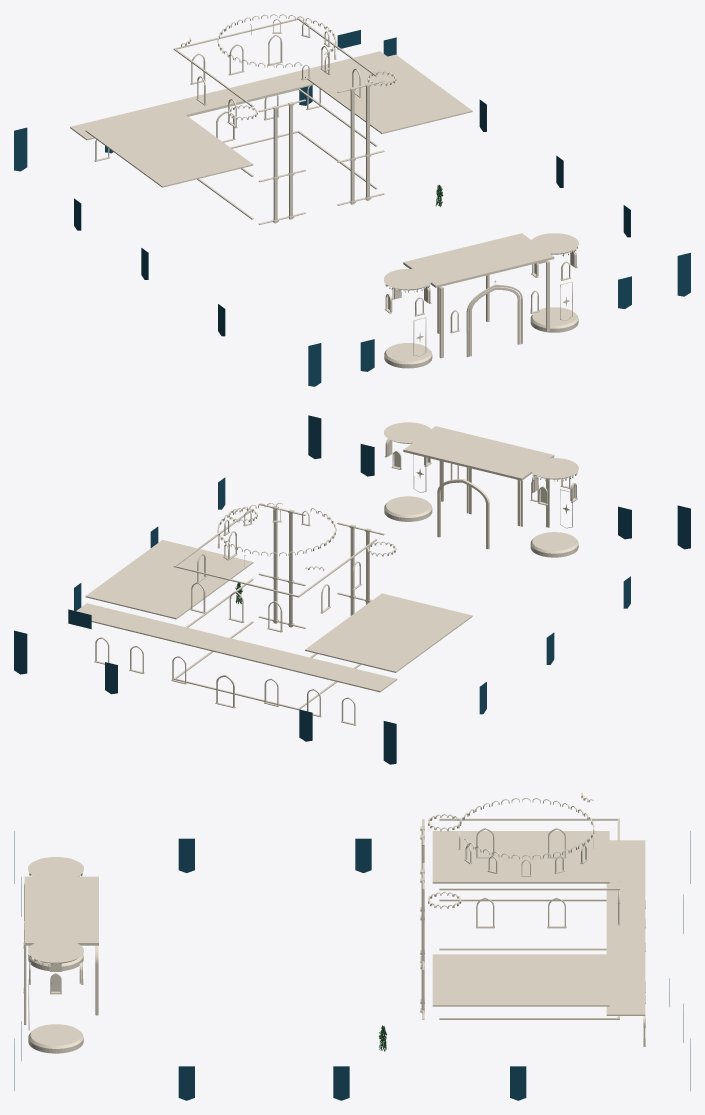
The model's file is castle-05.glb.
The picture shows the model from 3 angles, top to bottom: view 1: azimuth 30°, elevation 25°; view 2: azimuth 150°, elevation 25°; view 3: azimuth 270°, elevation 25°; orthographic projection. The views are drawn at different scales.
Visible parts, largest first — view 1: NC.Export.Palace.IvoryStone.01, NC.Export.Gatehouse.IvoryStone.00, NC.Export.Fortifications.BannerTeal, NC.Export.Palace.IvoryStone.04; view 2: NC.Export.Palace.IvoryStone.01, NC.Export.Gatehouse.IvoryStone.00, NC.Export.Fortifications.BannerTeal, NC.Export.Palace.IvoryStone.04; view 3: NC.Export.Palace.IvoryStone.01, NC.Export.Gatehouse.IvoryStone.00, NC.Export.Fortifications.BannerTeal, NC.Export.Palace.IvoryStone.04.
Boxes of the visible parts, left/top/right/bottom form: NC.Export.Palace.IvoryStone.01: left=70, top=18, right=472, bottom=224; NC.Export.Gatehouse.IvoryStone.00: left=384, top=233, right=578, bottom=368; NC.Export.Fortifications.BannerTeal: left=14, top=30, right=690, bottom=386; NC.Export.Palace.IvoryStone.04: left=181, top=14, right=396, bottom=120; NC.Export.Palace.IvoryStone.01: left=76, top=503, right=472, bottom=725; NC.Export.Gatehouse.IvoryStone.00: left=384, top=422, right=578, bottom=557; NC.Export.Fortifications.BannerTeal: left=14, top=415, right=690, bottom=764; NC.Export.Palace.IvoryStone.04: left=217, top=502, right=396, bottom=570; NC.Export.Palace.IvoryStone.01: left=420, top=818, right=645, bottom=1046; NC.Export.Gatehouse.IvoryStone.00: left=23, top=857, right=98, bottom=1053; NC.Export.Fortifications.BannerTeal: left=14, top=831, right=690, bottom=1100; NC.Export.Palace.IvoryStone.04: left=428, top=793, right=594, bottom=908.
Size of the model in its own units: 105 by 37.7 by 132.
